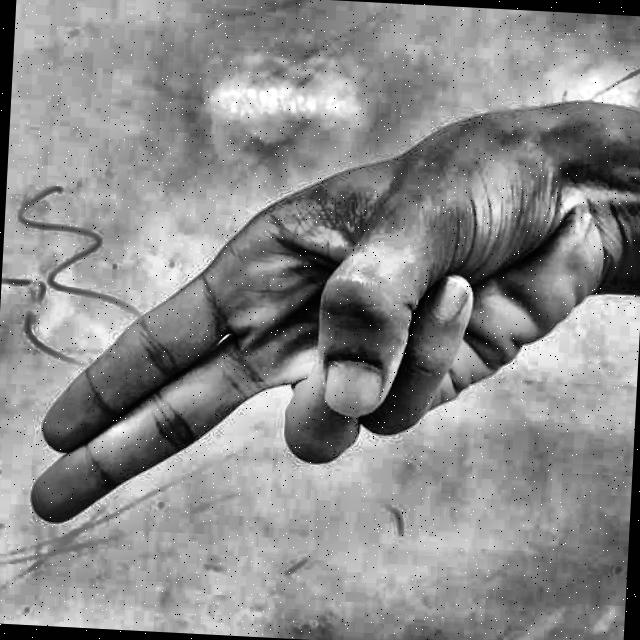Ha: (13, 57, 600, 600)
